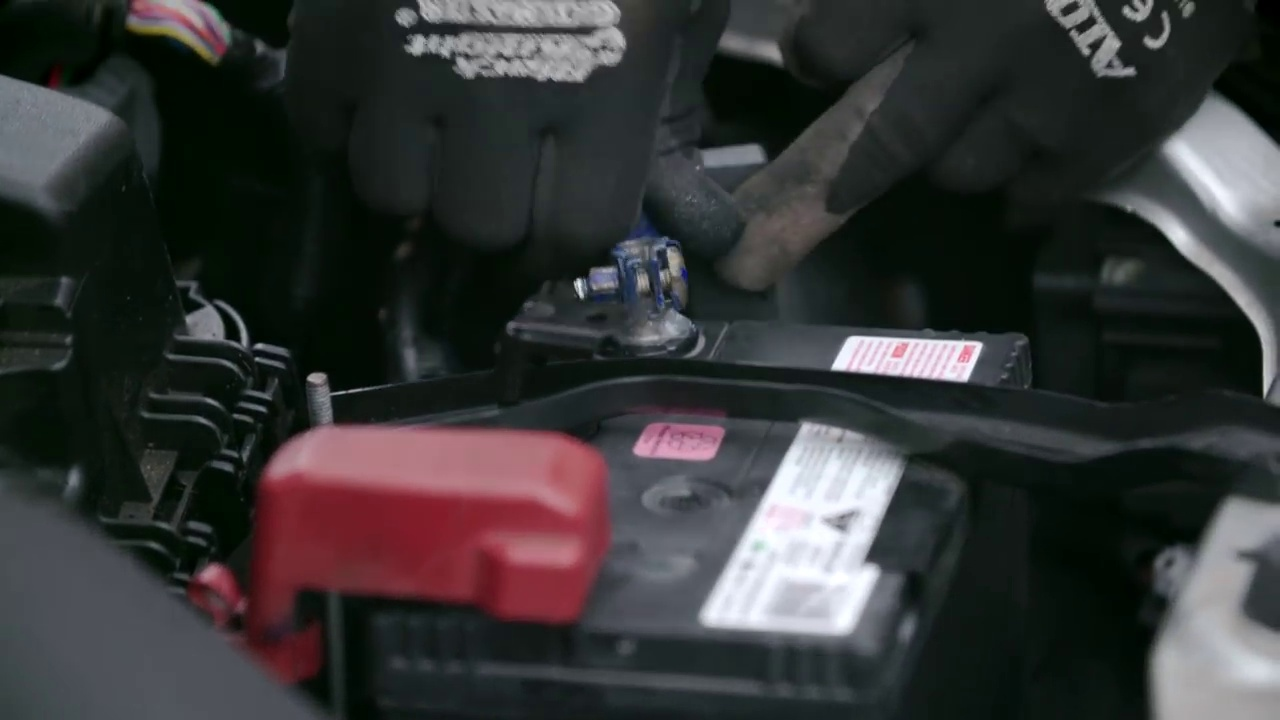battery: (316, 286, 1034, 663)
neg_connected: (513, 200, 724, 366)
pos_connected: (218, 410, 642, 651)
